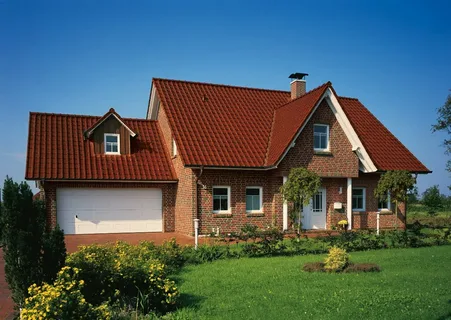private_hause: (42, 86, 415, 240)
